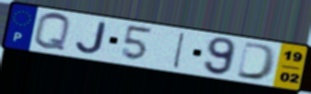5: (118, 23, 155, 63)
9: (201, 36, 238, 77)
D: (234, 40, 279, 82)
I: (171, 31, 188, 70)
J: (74, 20, 110, 56)
Q: (32, 11, 72, 53)
